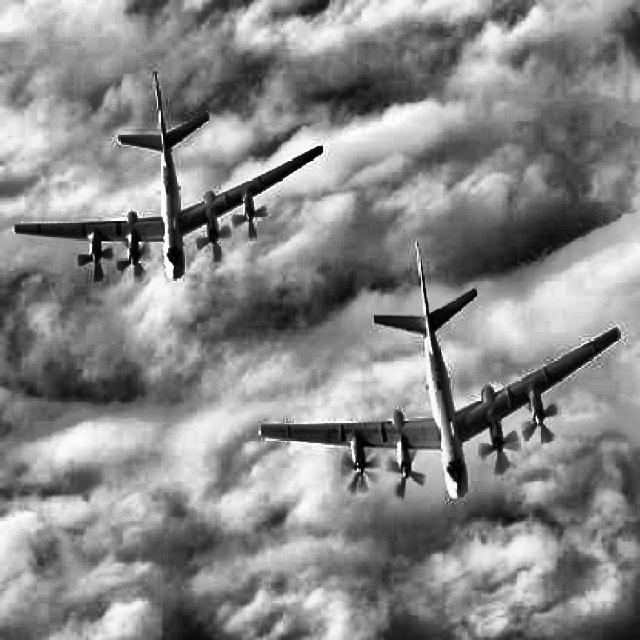Tu95: (258, 240, 618, 498), (13, 68, 324, 280)
